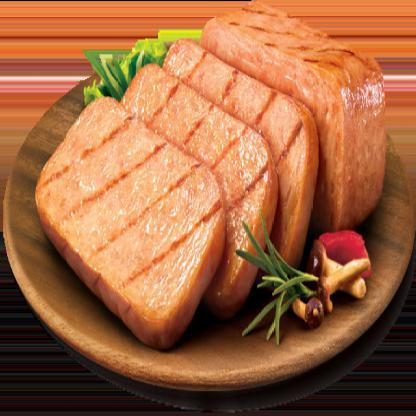spam: (194, 23, 378, 223), (57, 110, 207, 322)
